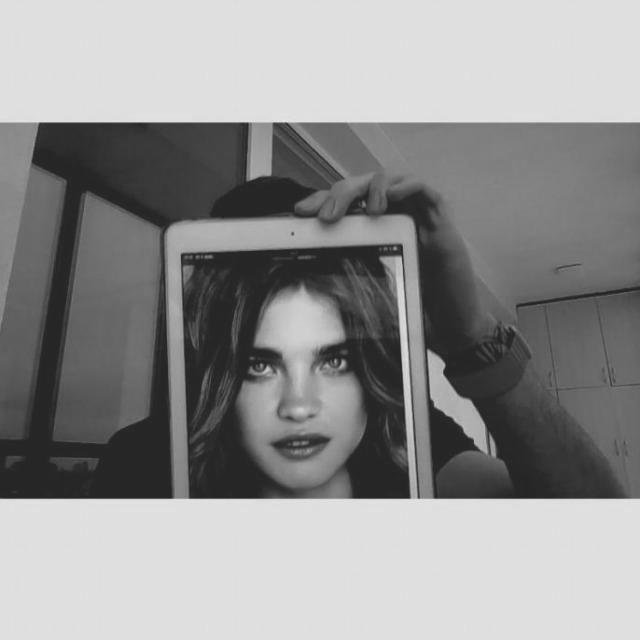fake: (156, 206, 442, 498)
